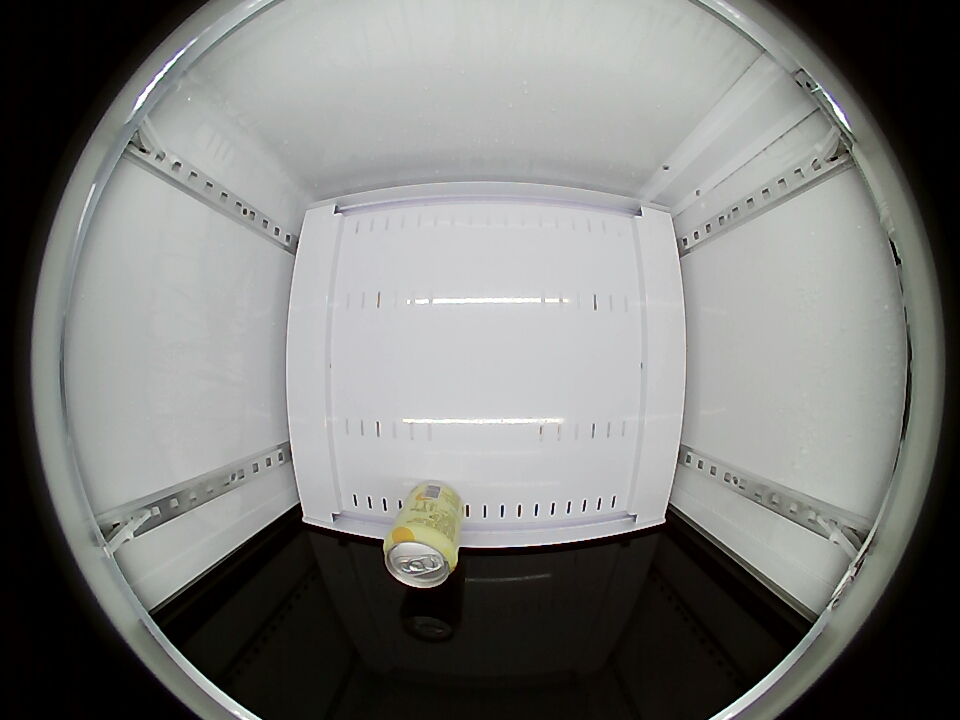mangguoxiaolao: (382, 524, 459, 588)
